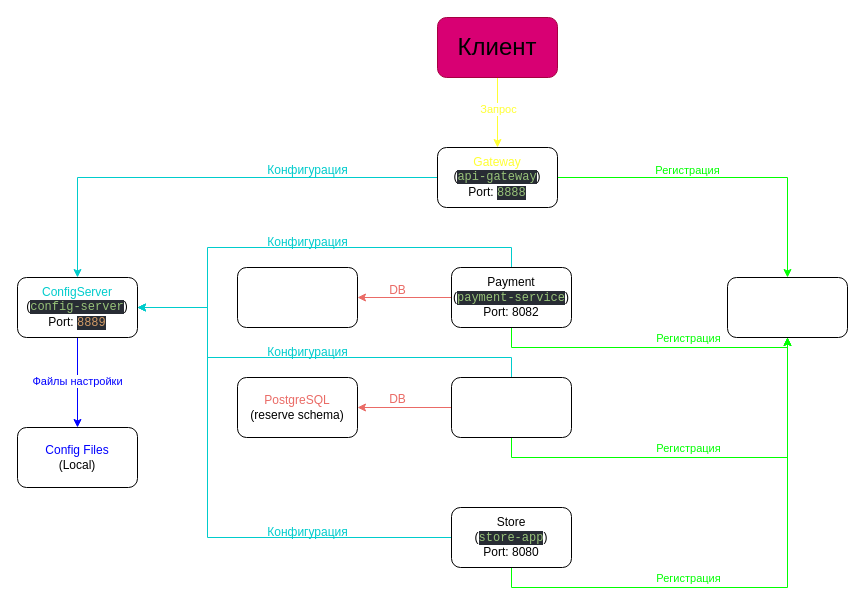
Image size: 865x613. Some labels were removed from this diagram. The shapes that lost their labels are listed below. From the top down, each one's centre as x and y in pixels, then its label:
At (297,297): "PostgreSQL (payment schema)".
At (787,307): "EurekaServer ( discovery-server ) Port: 8761".
At (511,407): "Reserve ( reserve-service ) Port: 8081".
